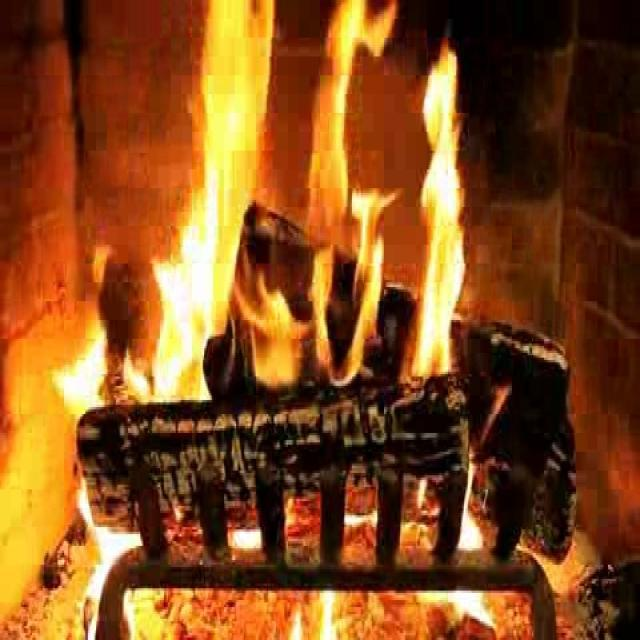Fire: (160, 0, 472, 406)
